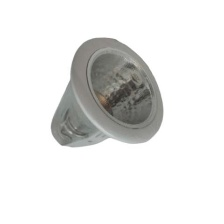light_bulb: (35, 28, 168, 160)
